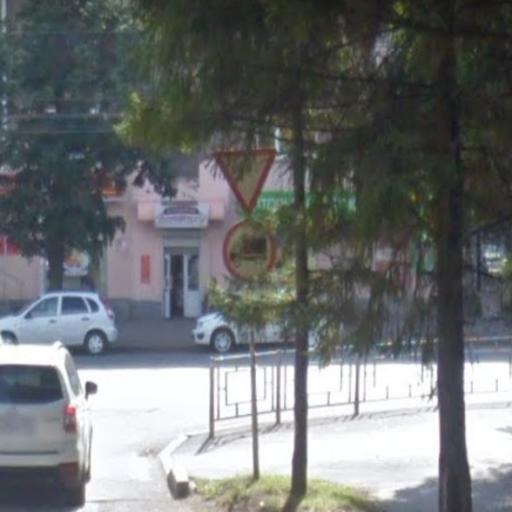traffic_sign: (210, 143, 280, 220), (223, 216, 282, 288)
